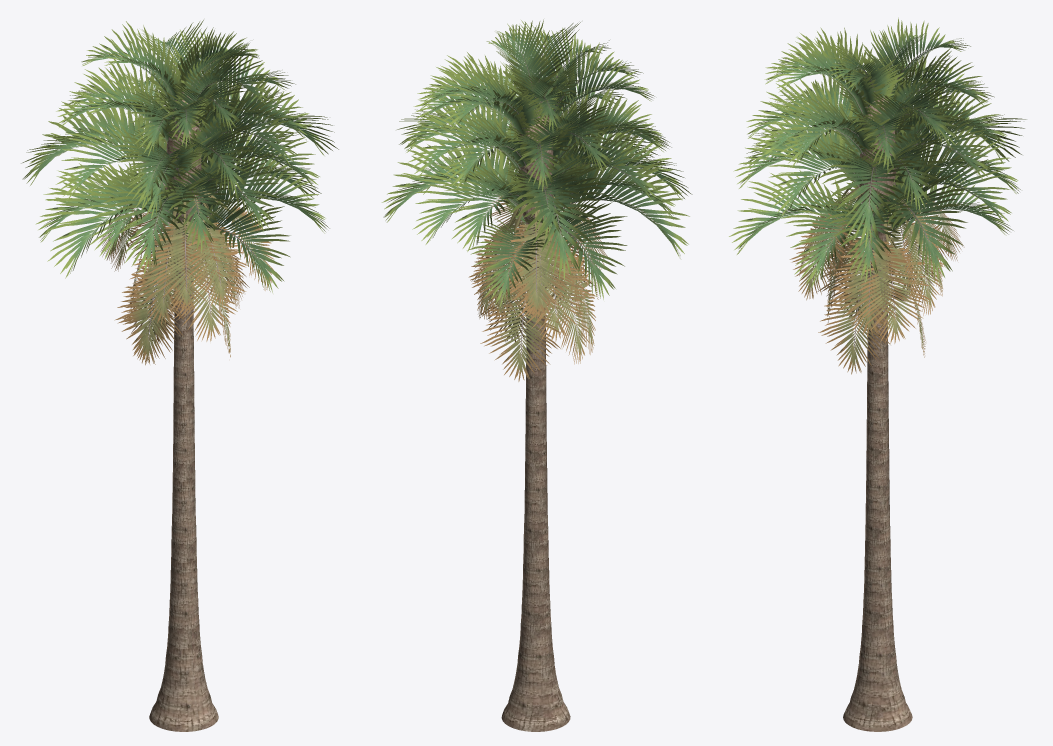
The model's file is ns_palm.glb.
The picture shows the model from 3 angles, left to right: view 1: azimuth 30°, elevation 25°; view 2: azimuth 150°, elevation 25°; view 3: azimuth 270°, elevation 25°; orthographic projection.
Parts seen in each view (by area): view 1: ns_palm; view 2: ns_palm; view 3: ns_palm.
Boxes of the visible parts, x1,y1,x2,y2 form: ns_palm: (21, 20, 338, 731); ns_palm: (381, 19, 692, 731); ns_palm: (729, 17, 1026, 731).
Bounding box in the file's own units: 4 × 9 × 3.73.
2 materials, 2 textured.
